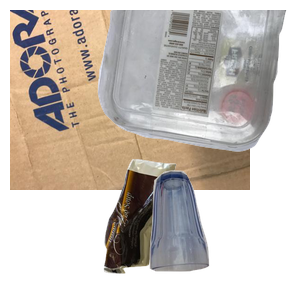cardboard: (10, 10, 250, 190)
glass: (147, 168, 300, 300)
plastic: (95, 10, 300, 154)
trash: (101, 157, 270, 300)
